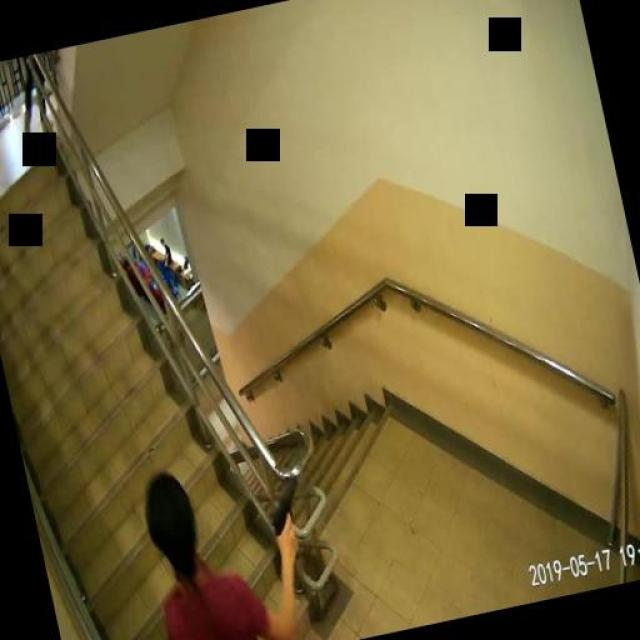gun: (262, 468, 308, 544)
